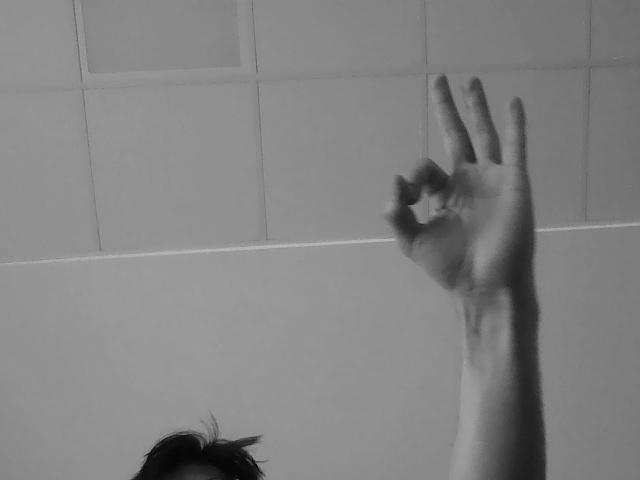OK: (383, 68, 540, 310)
